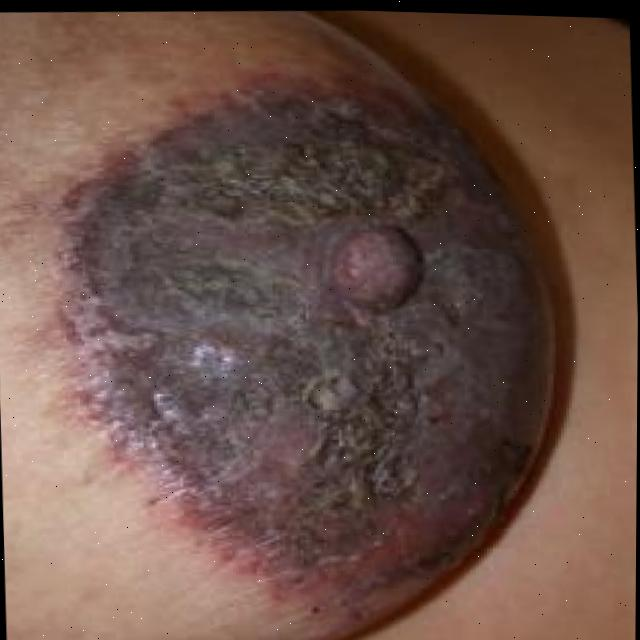Eczema: (58, 68, 540, 576)
